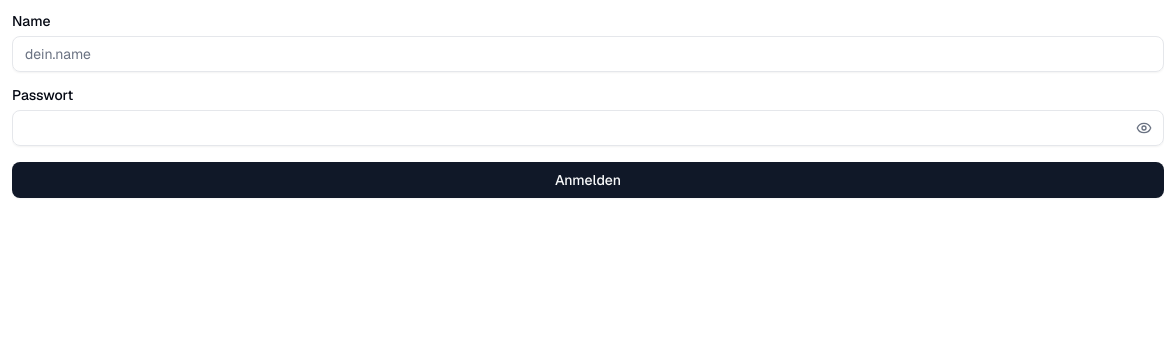
Test case: LoginForm Component › should display server-side validation errors for name and password
Type "ValidUser" into the field labelled "Name" at [588, 54], box [12,36,1164,72]
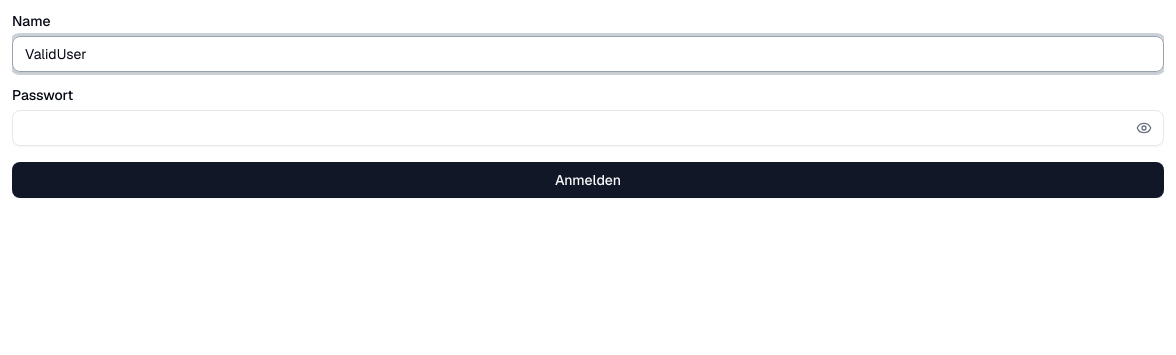
Type "validpassword" into the password field labelled "Passwort" at [588, 128], box [12,110,1164,146]
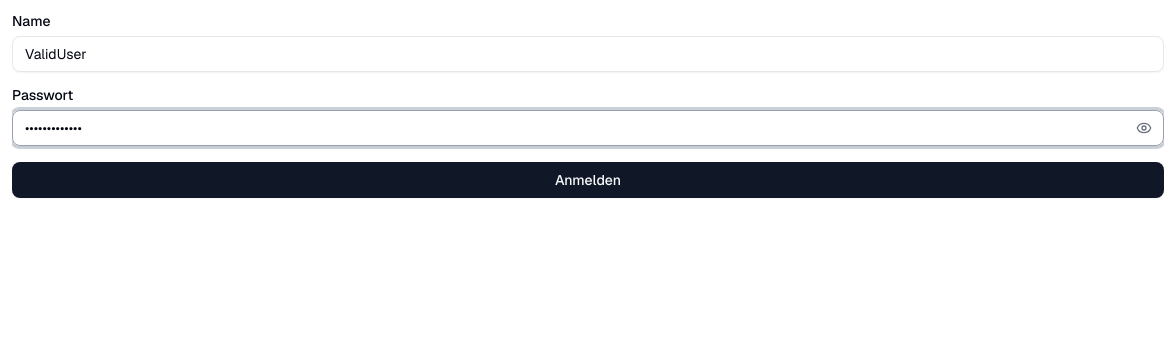
Click the button "Anmelden" at [588, 180], box [12,162,1164,198]
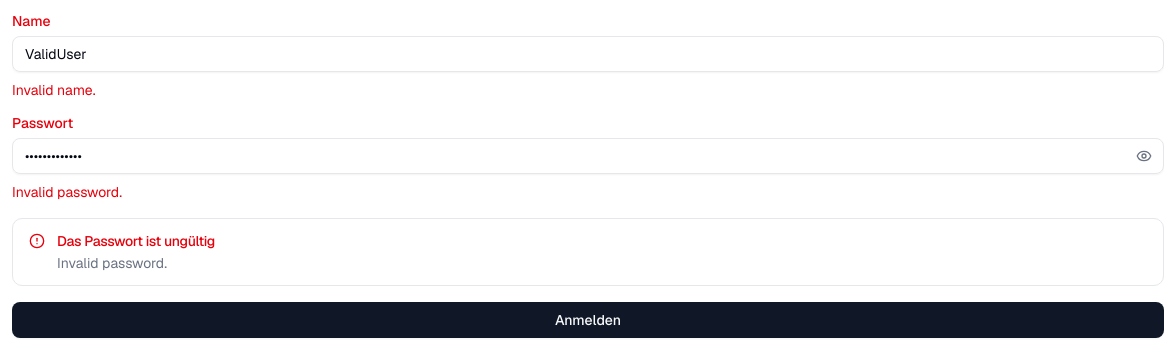
Expected: the text "Invalid name." is shown, [12,81,96,99]
Expected: the heading "Das Passwort ist ungültig" is shown, [57,232,215,250]
Expected: the text "Invalid password." is shown 2 times, [12,183,122,201]; [57,254,167,272]
